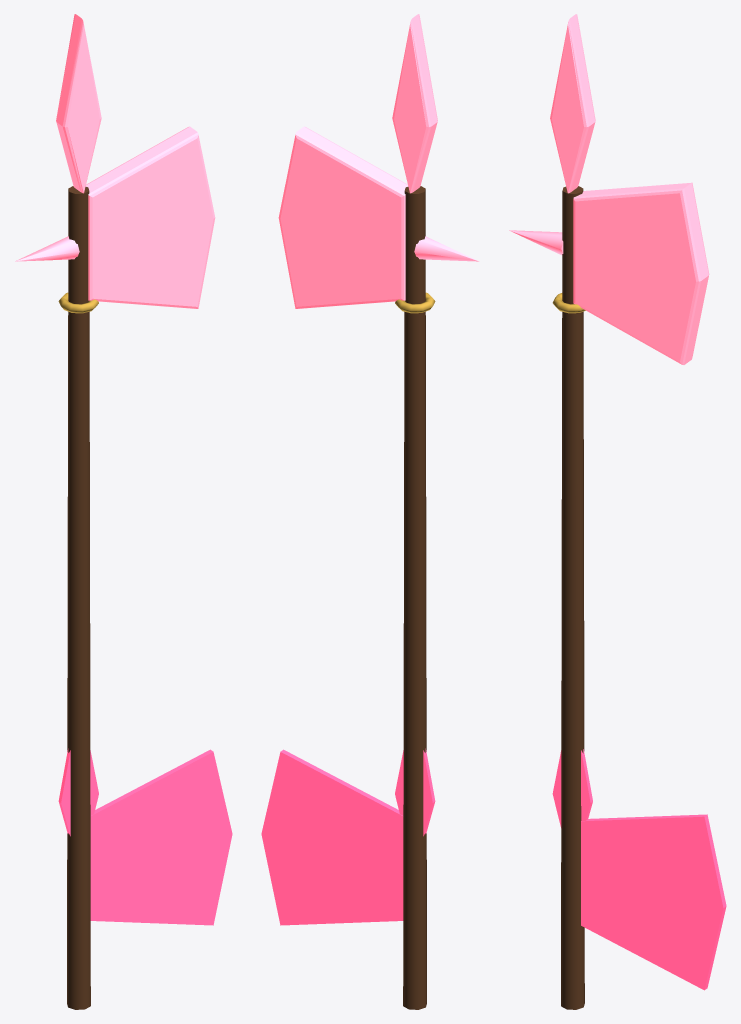
The model's file is spear_f1_aed7e51f.glb.
3 renders of one model, left to right at view 1: azimuth 30°, elevation 25°; view 2: azimuth 150°, elevation 25°; view 3: azimuth 330°, elevation 25°, orthographic.
Parts seen in each view (by area): view 1: m4_ow80_, m2_gm130_, m0_ow80_, m1_gm130_; view 2: m4_ow80_, m2_gm130_, m0_ow80_, m1_gm130_; view 3: m4_ow80_, m2_gm130_, m0_ow80_, m1_gm130_.
Boxes of the visible parts, x1,y1,x2,y2 form: m4_ow80_: (15,14,215,308); m2_gm130_: (90,749,232,925); m0_ow80_: (67,186,90,1009); m1_gm130_: (58,748,98,836); m4_ow80_: (278,14,478,308); m2_gm130_: (261,749,403,925); m0_ow80_: (403,186,426,1009); m1_gm130_: (395,748,435,836); m4_ow80_: (509,14,709,364); m2_gm130_: (581,814,726,990); m0_ow80_: (561,186,584,1009); m1_gm130_: (552,749,592,827).
Size of the model in its own units: 0.8064 by 3.52 by 0.1255.
